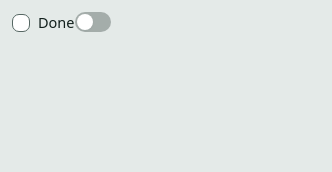
Test: choices › a checkbox is controlled by its owner and a switch reports each change
Later steps or results of the test are not shown.
Click the checkbox named "Done" next to "Done" at (21, 23), box [12,14,30,32]
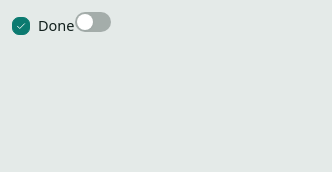
Check: the checkbox named "Done" next to "Done" is checked, box [12,17,30,35]
